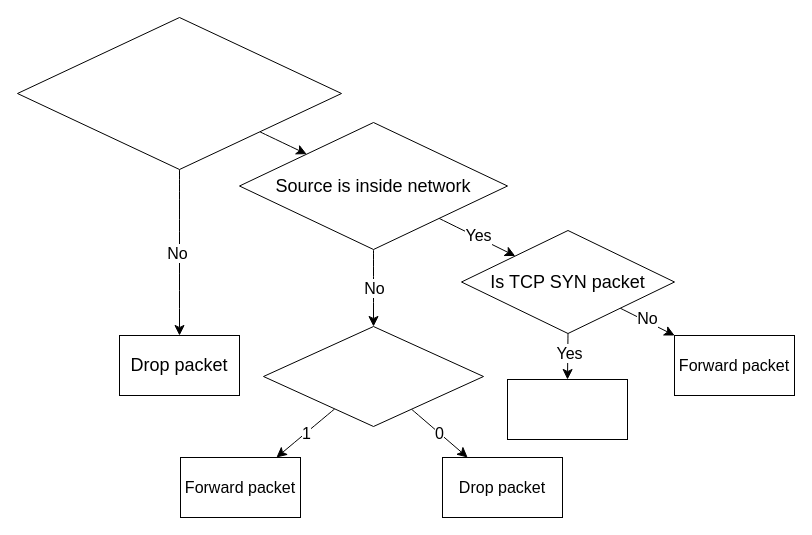
Image size: 812x535. Some labels were removed from this diagram. Here are the shapes that lost their labels. From the top down, the centre of each, then its label:
At point 179,93: "Matching entry in check_ports table".
At point 373,376: "Read bloom filter".
At point 567,409: "Set bloom filter Forward packet".
